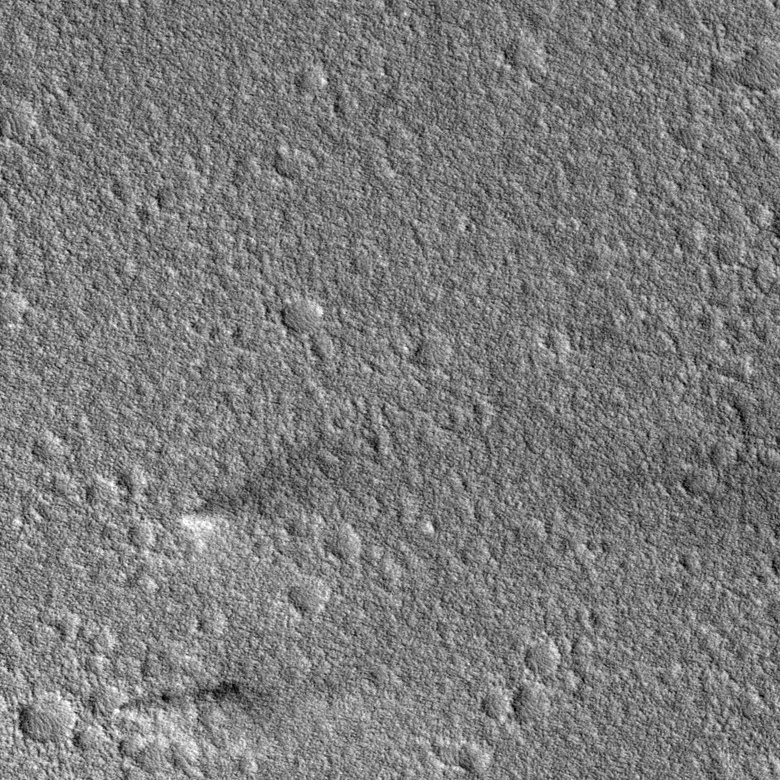dust_devil: (177, 444, 328, 538), (109, 676, 272, 723)
